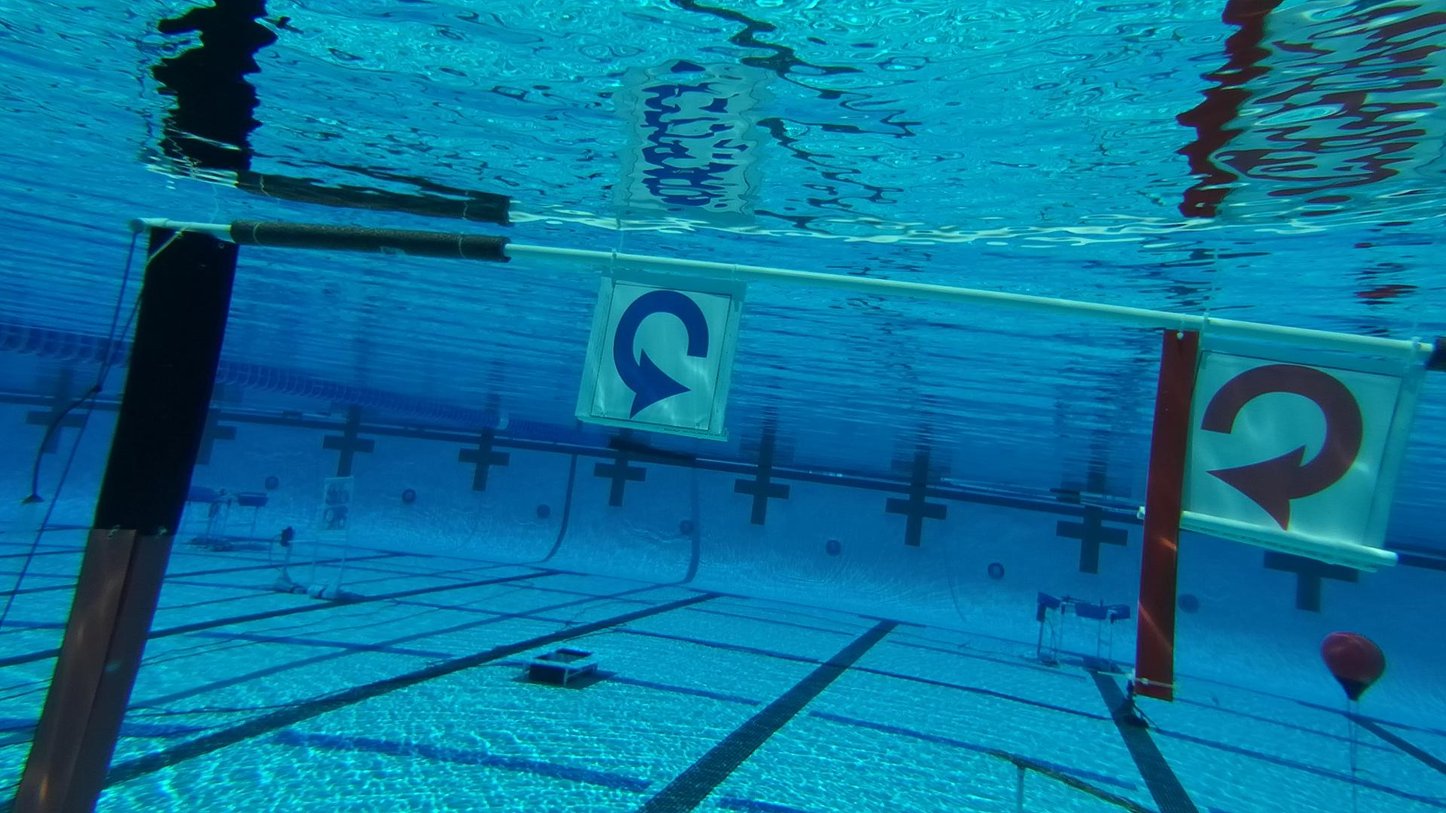blue-gate-sign: (570, 265, 749, 445)
buoy: (1319, 629, 1386, 702)
coral-box-side: (1000, 572, 1153, 692)
dropper-box-side: (503, 627, 619, 693)
red-gate-sign: (1193, 345, 1406, 574)
